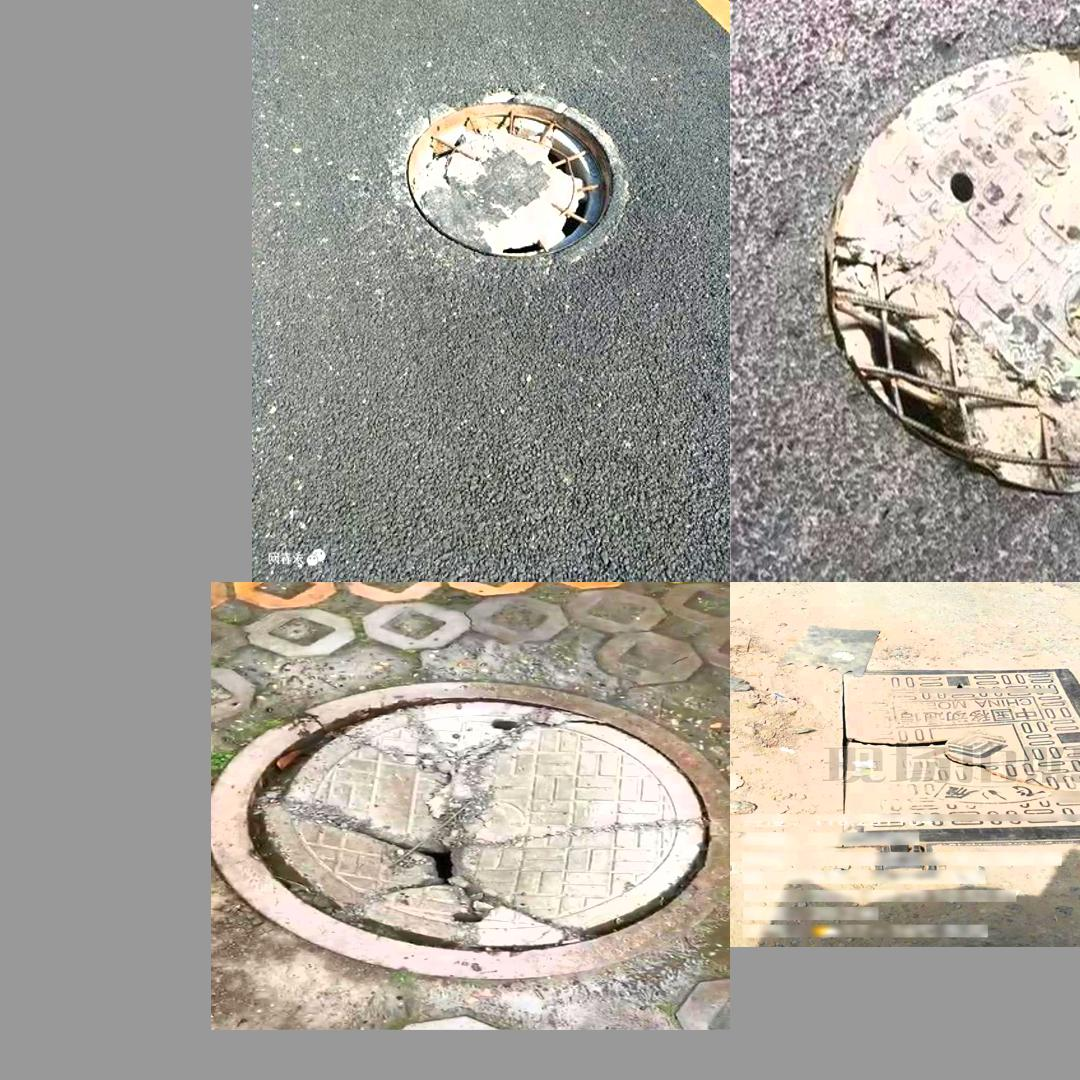broke: (221, 686, 713, 982), (817, 31, 1080, 504), (833, 667, 1080, 879), (392, 75, 634, 283)
